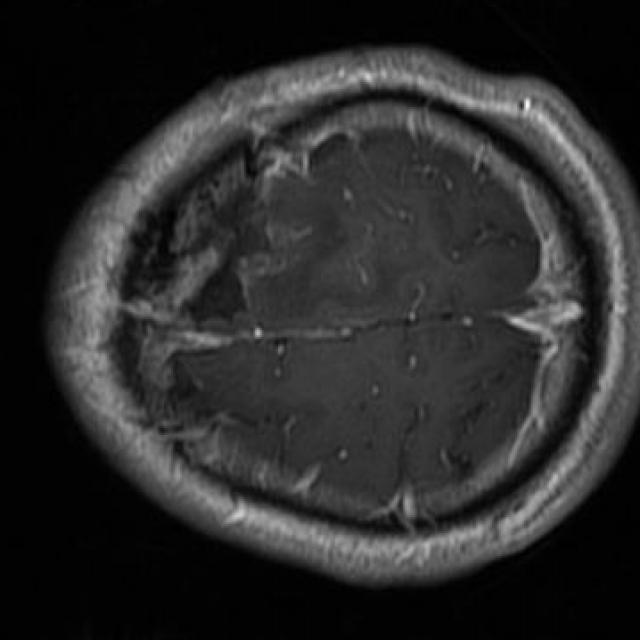glioma: (123, 144, 285, 321)
